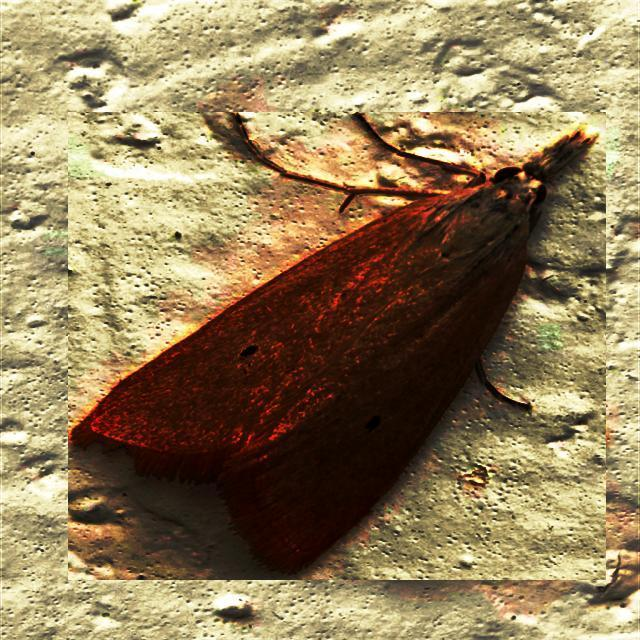stem-borer: (68, 112, 606, 580)
